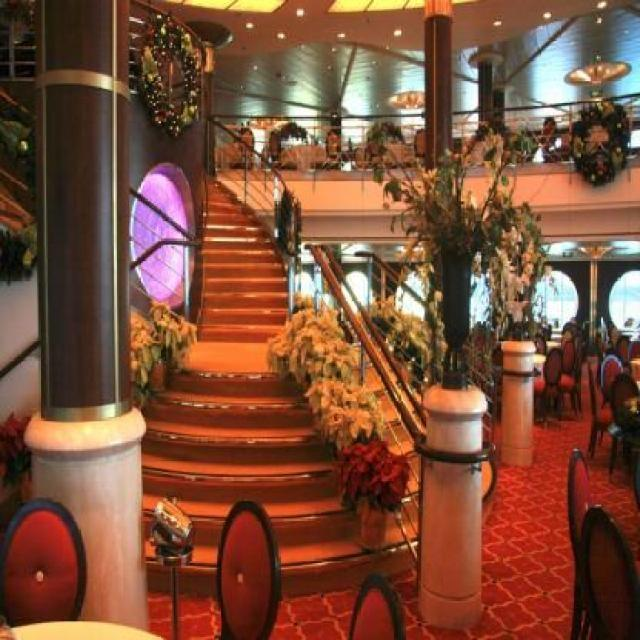stair: (140, 336, 498, 598), (192, 168, 296, 342)
